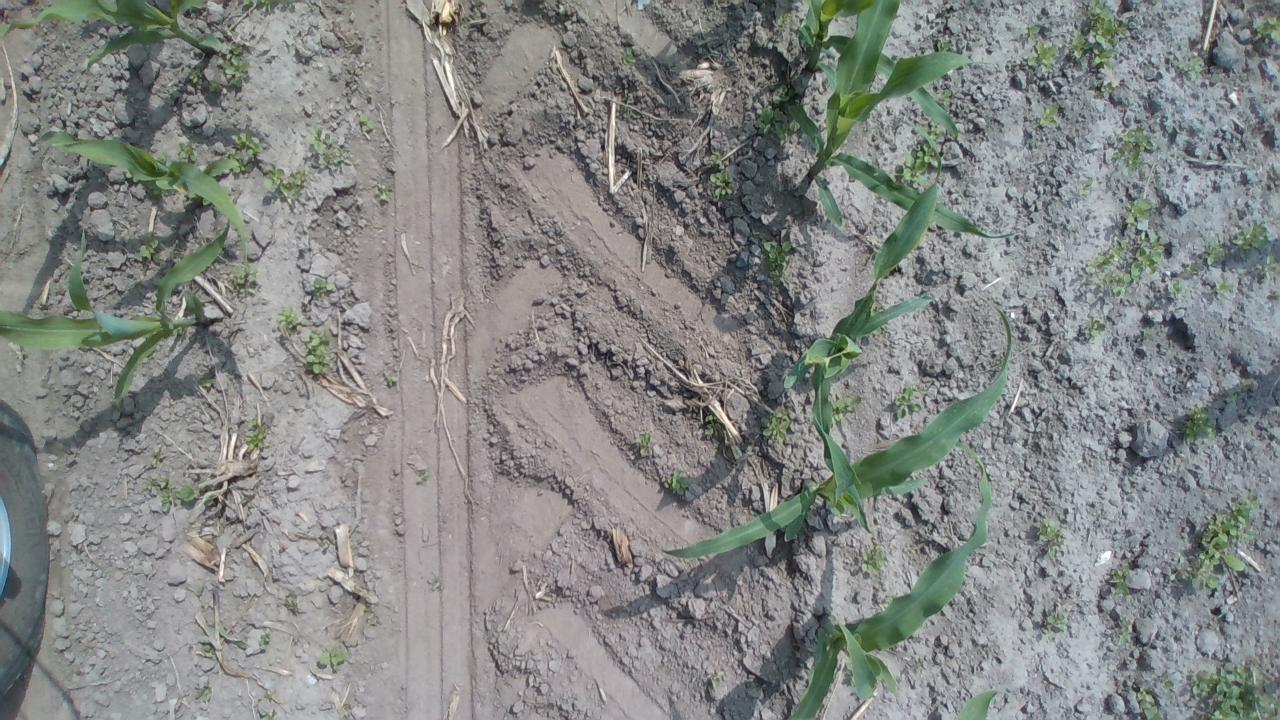Maize: (652, 301, 1018, 564), (777, 149, 956, 532), (780, 433, 996, 720), (785, 3, 1021, 253), (2, 212, 240, 408), (792, 0, 976, 159), (39, 117, 265, 235), (0, 0, 236, 73), (951, 684, 1008, 720)
Weeds: (1185, 494, 1261, 596), (1188, 657, 1280, 720), (1080, 234, 1164, 302), (1066, 6, 1128, 67), (751, 84, 802, 144), (903, 120, 943, 185), (1112, 124, 1154, 176), (306, 124, 354, 169), (261, 162, 308, 204), (215, 42, 254, 92), (760, 238, 796, 291), (226, 134, 268, 178), (1134, 674, 1172, 719), (1032, 514, 1064, 566), (1182, 404, 1218, 448), (304, 330, 335, 378), (887, 384, 929, 419), (706, 153, 739, 197), (1040, 596, 1073, 638), (311, 640, 355, 670), (222, 262, 262, 295), (1120, 195, 1154, 231), (158, 486, 200, 515), (827, 392, 860, 428), (1106, 564, 1138, 600), (860, 538, 886, 581), (1032, 101, 1066, 133), (758, 410, 790, 443), (253, 689, 287, 720), (1192, 234, 1223, 266), (1237, 218, 1263, 256), (271, 306, 304, 335), (1110, 618, 1138, 650), (660, 466, 689, 496), (1028, 42, 1054, 74), (1254, 14, 1280, 46), (1180, 55, 1208, 84), (137, 232, 164, 262), (242, 419, 268, 450), (700, 415, 726, 443), (304, 276, 340, 296), (633, 430, 657, 459), (1250, 256, 1280, 278), (371, 180, 396, 206), (177, 137, 200, 164), (412, 461, 434, 488), (1094, 72, 1118, 96), (618, 99, 644, 121), (282, 590, 302, 618), (706, 667, 730, 690), (357, 110, 377, 136), (188, 64, 209, 88), (364, 603, 382, 631), (1166, 276, 1185, 302), (1024, 25, 1045, 48), (1083, 317, 1106, 338), (1209, 280, 1238, 296), (380, 369, 402, 390), (1078, 176, 1099, 198), (142, 474, 170, 490), (196, 684, 217, 704), (424, 572, 444, 592), (256, 631, 276, 651), (620, 47, 639, 68), (748, 681, 771, 695), (778, 12, 791, 27), (940, 91, 950, 110)
